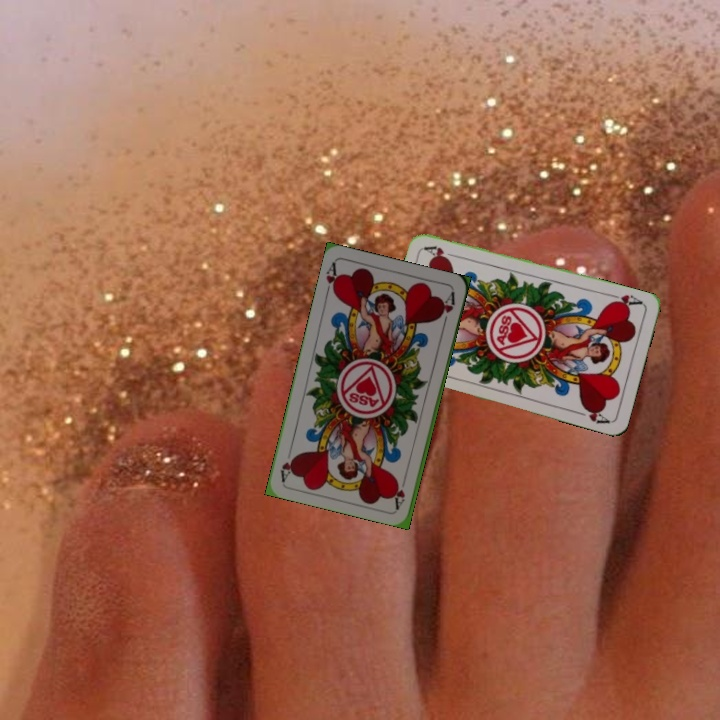HA: (605, 289, 645, 310), (322, 258, 342, 299), (391, 470, 409, 510)
